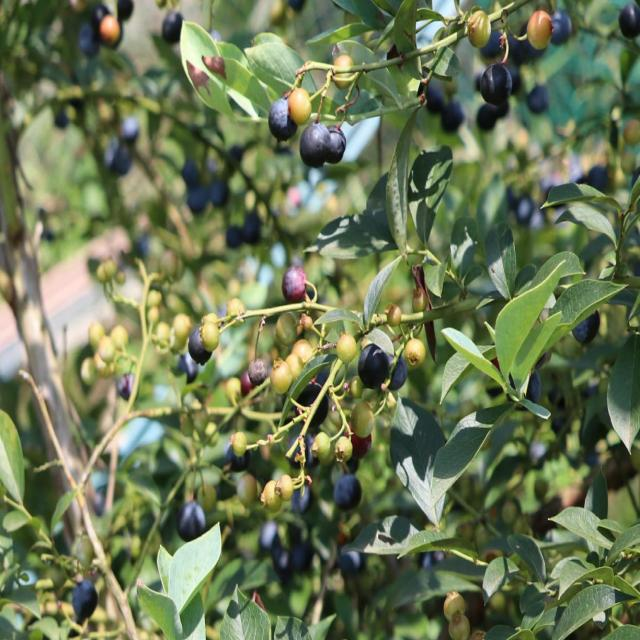blueberry: (478, 61, 519, 106), (295, 120, 330, 170), (507, 367, 544, 413), (358, 340, 392, 388), (294, 382, 329, 428), (187, 322, 215, 377), (266, 96, 298, 141), (176, 500, 209, 542), (570, 306, 602, 348), (333, 468, 360, 509), (70, 580, 99, 615), (322, 125, 347, 162), (388, 355, 410, 394)
blueberry-halfripe: (282, 266, 308, 299), (350, 429, 372, 457), (242, 368, 260, 391)
blueberry-unripe: (526, 8, 553, 49), (350, 397, 376, 438), (327, 52, 358, 86), (467, 9, 491, 48), (286, 86, 312, 122), (277, 312, 304, 344), (403, 333, 427, 368), (444, 585, 466, 622), (202, 314, 222, 348), (270, 358, 290, 392), (335, 332, 357, 362), (262, 481, 283, 512), (226, 296, 247, 326), (448, 610, 469, 639), (332, 432, 352, 461), (231, 430, 250, 460), (312, 434, 334, 459), (286, 353, 304, 379), (279, 472, 293, 498)
